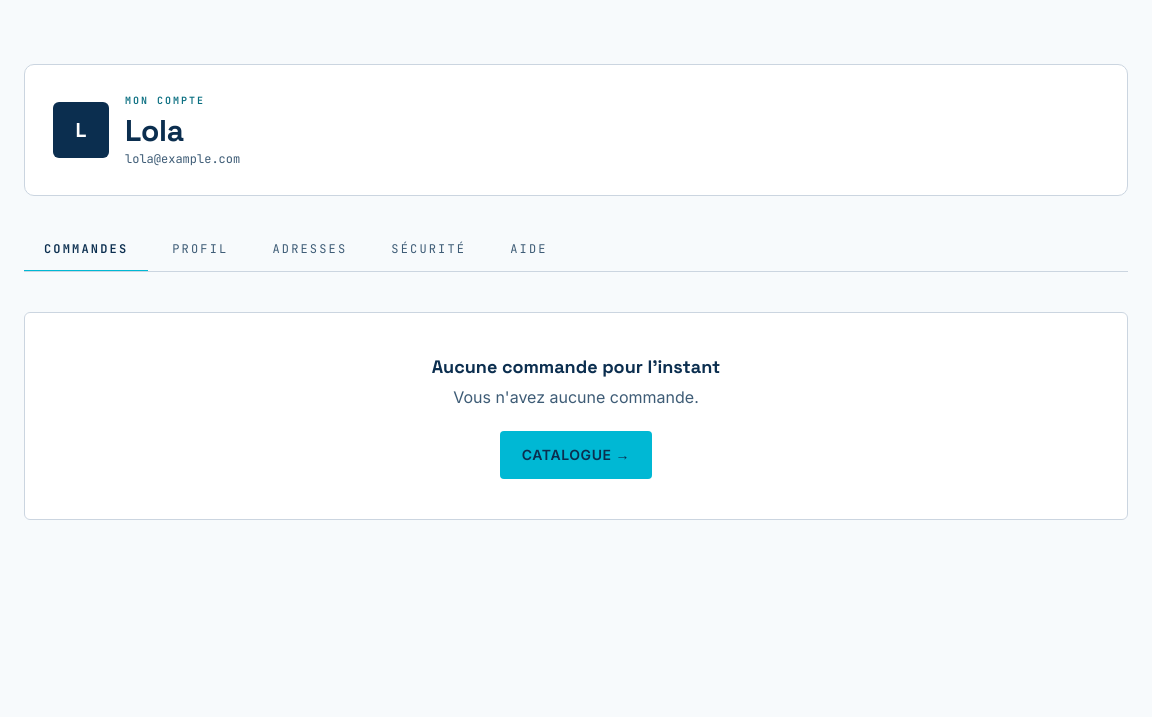
Scenario: un compte AVEC mot de passe › l'ancien reste demandé — la correction ne désarme rien
Click the button with test id "account-tab-security" at (429, 250), box [371,228,486,272]
(page scrolled)
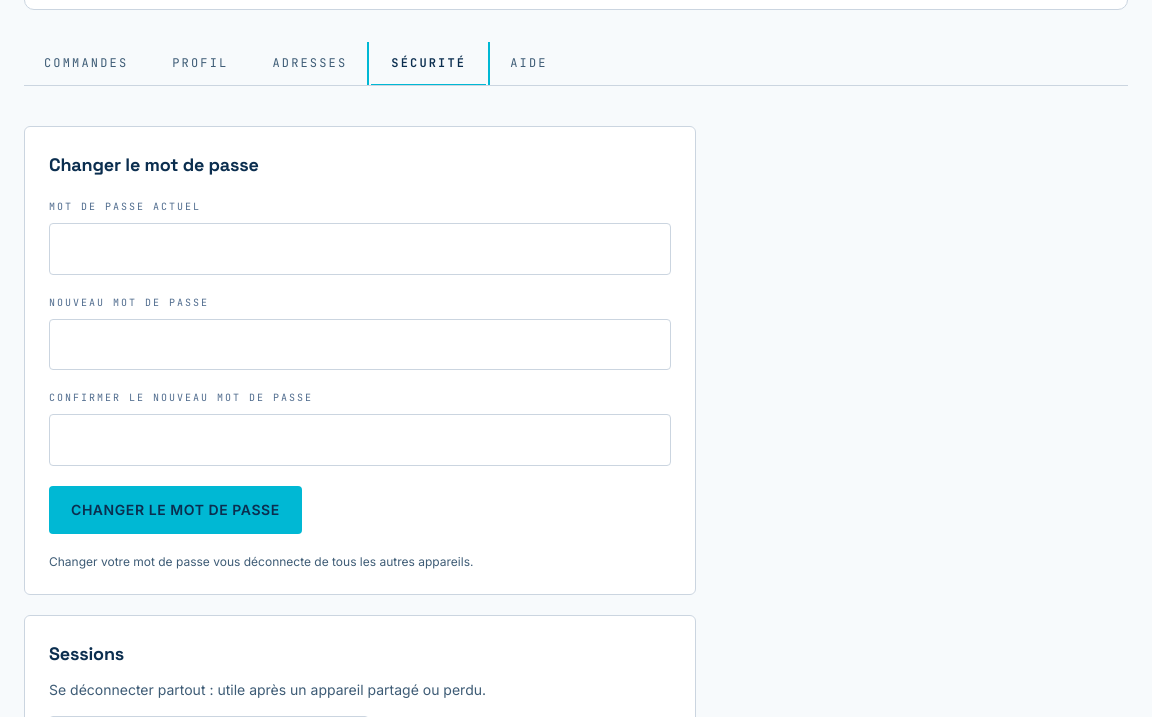
Check: the password field with test id "password-current" is shown, box [49,223,671,275]
